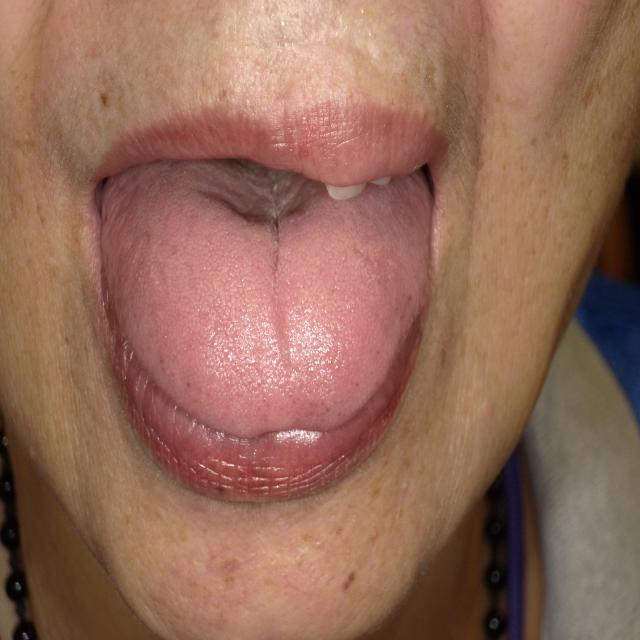baitaishe: (100, 161, 432, 436)
pangdashe: (100, 161, 432, 436)
piweiao: (191, 163, 334, 247)
